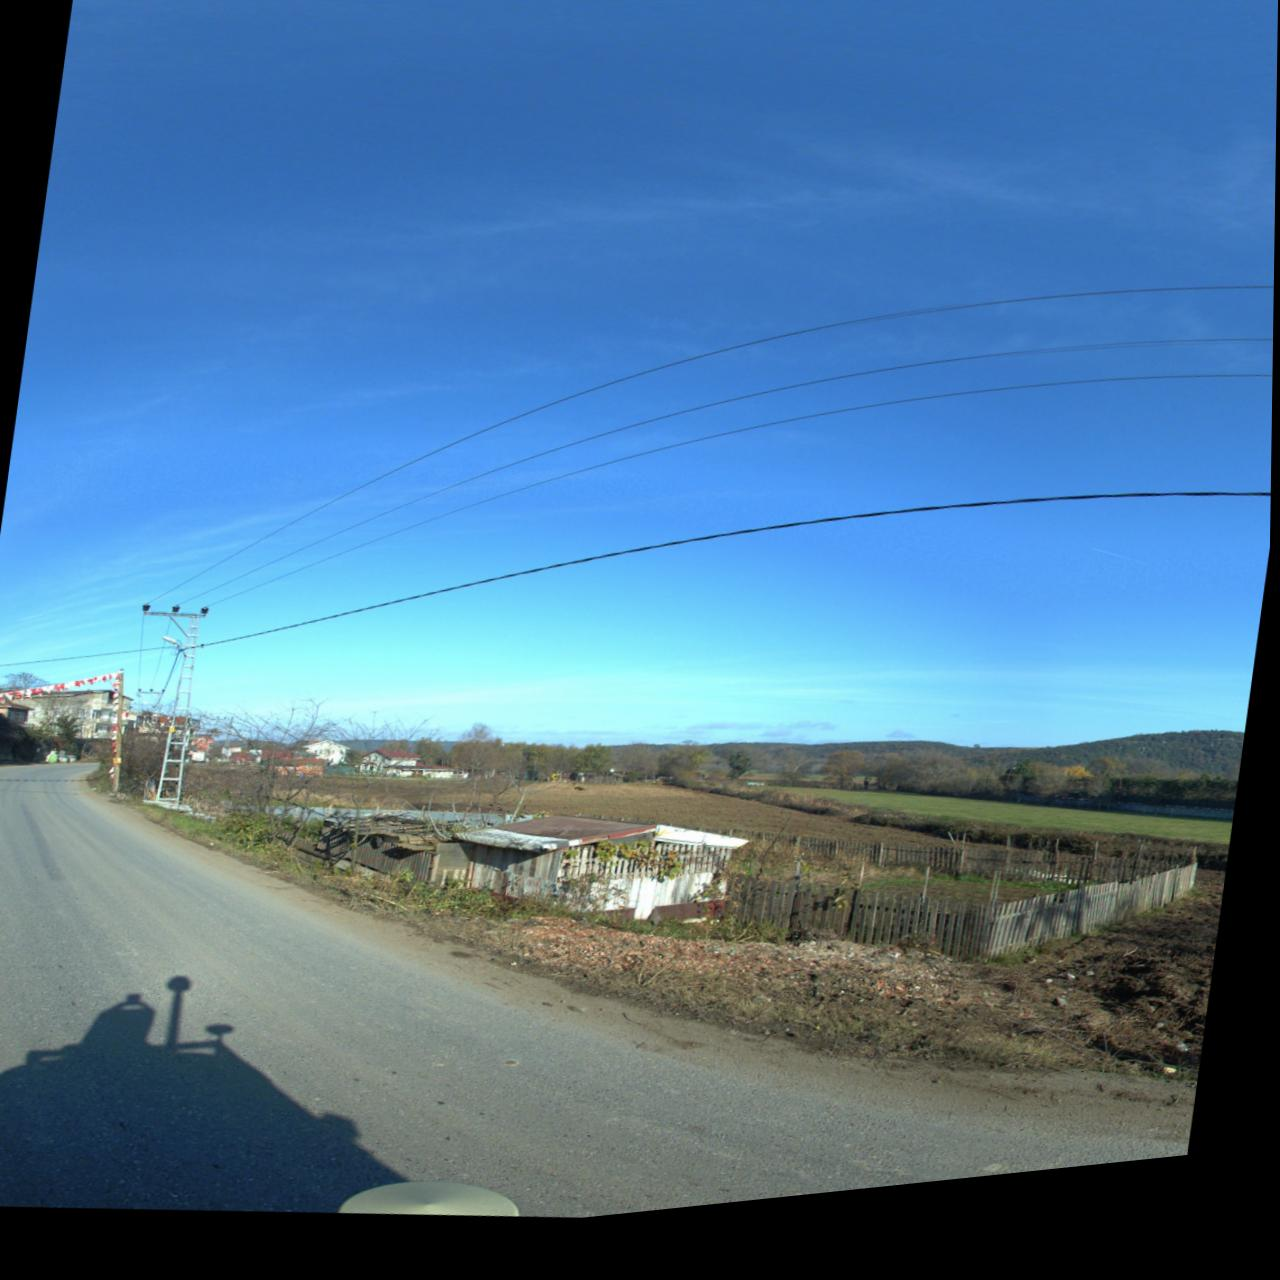Utility Pole Information Plate: (171, 731, 177, 736)
